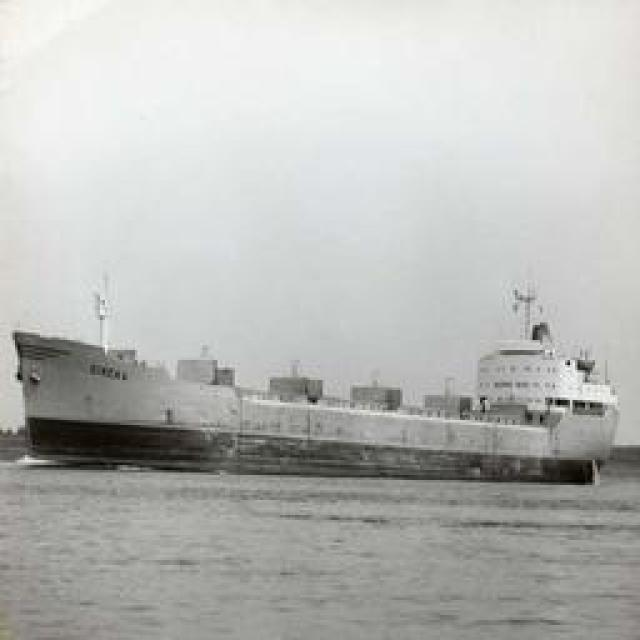Ship: (7, 320, 627, 480)
